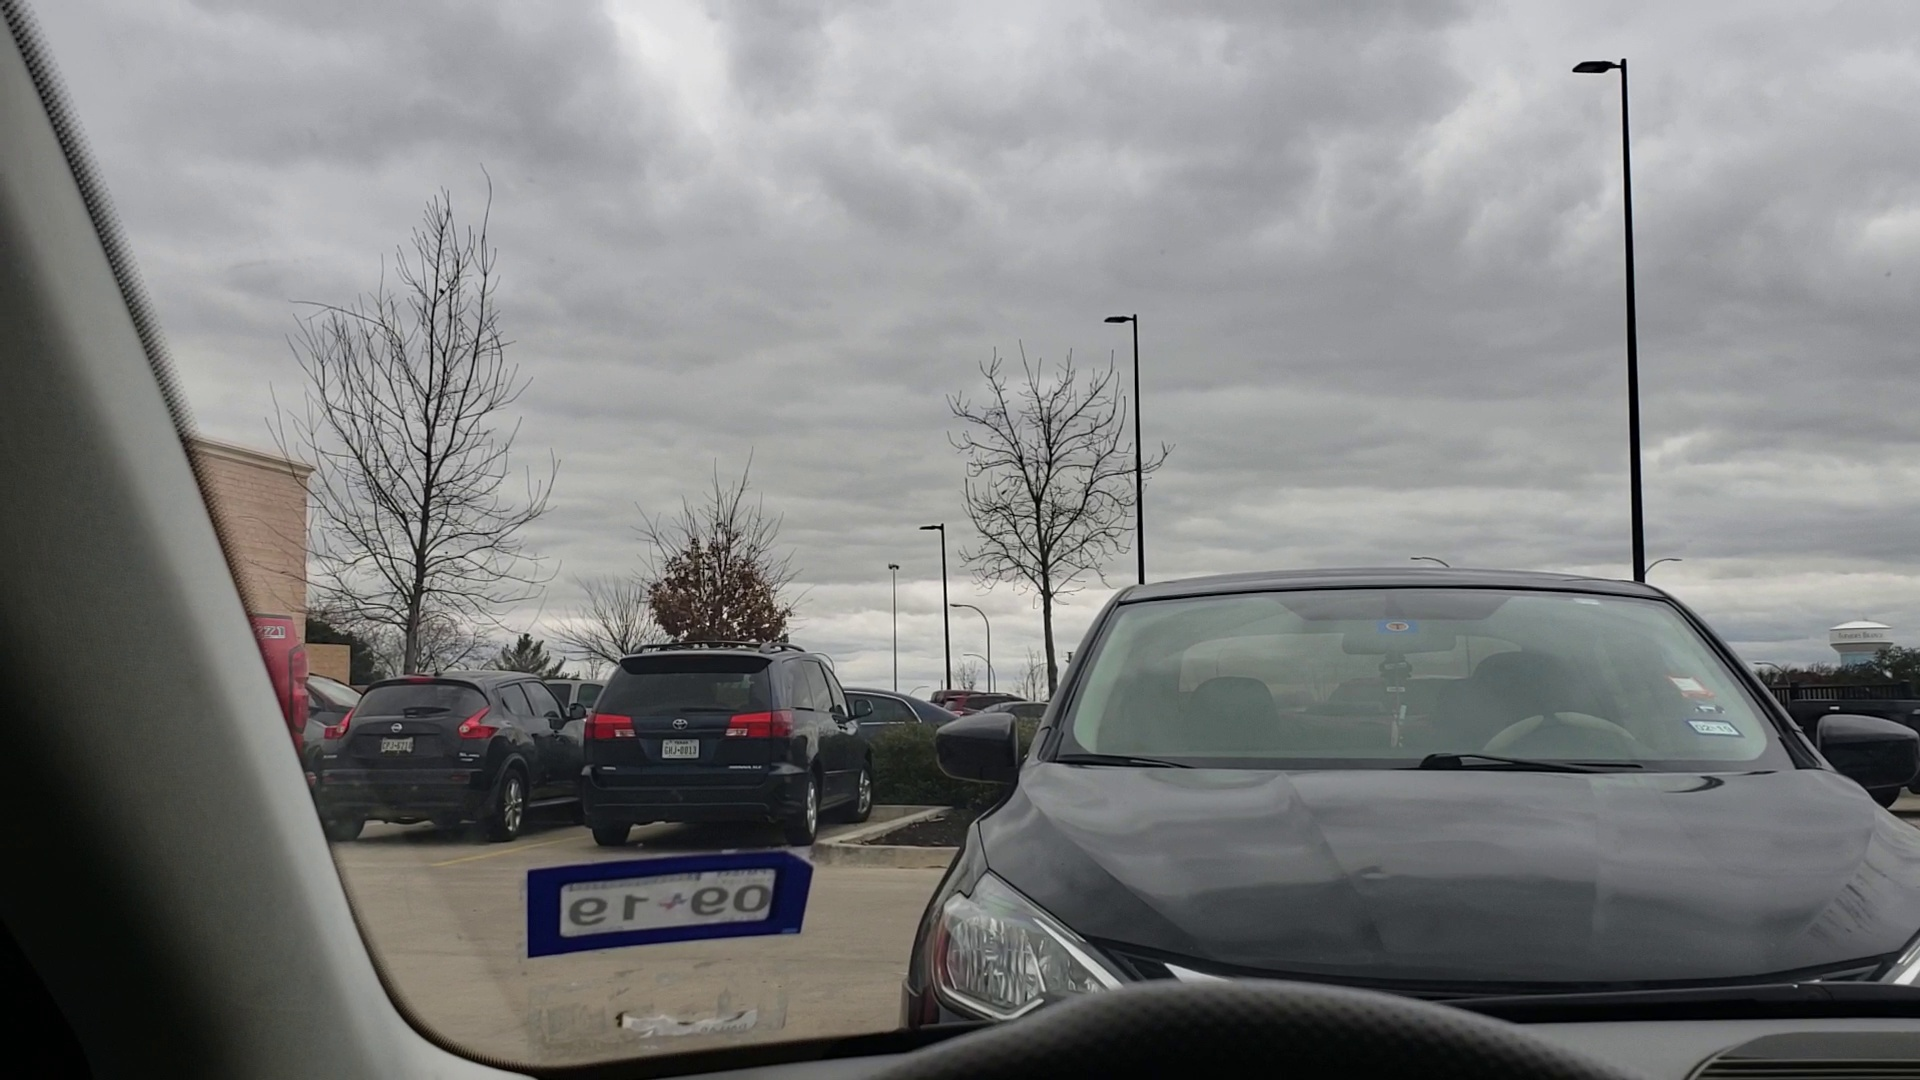car: (911, 556, 1920, 1027), (582, 644, 873, 878), (331, 667, 588, 851), (829, 665, 1062, 804)
